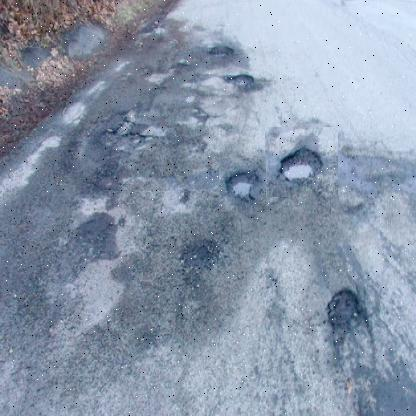pothole: (313, 270, 390, 370), (265, 127, 339, 198), (219, 158, 268, 213)
